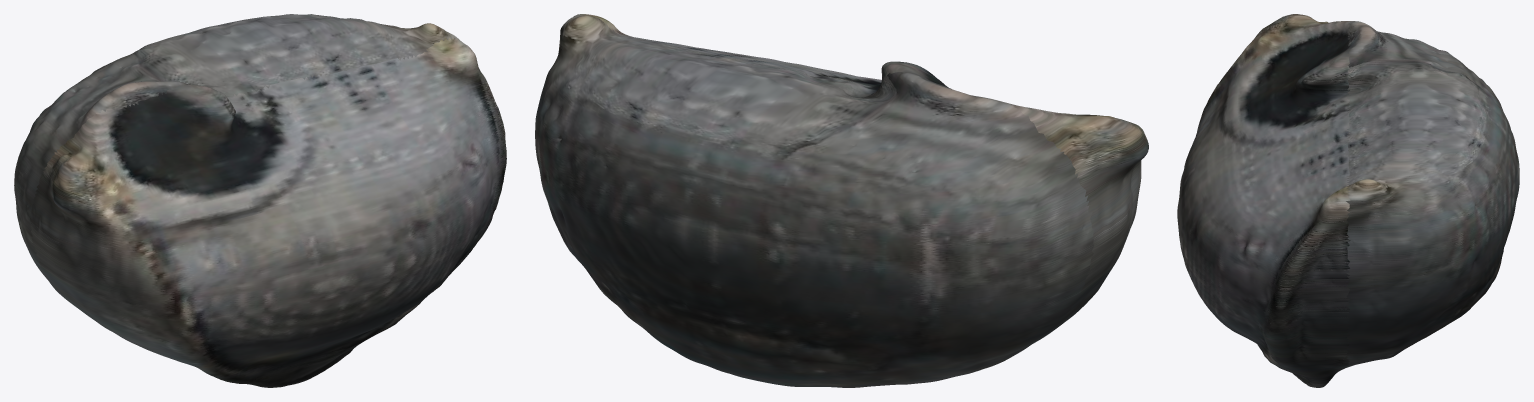
File: kfl-2165.glb
The picture shows the model from 3 angles, left to right: view 1: azimuth 30°, elevation 25°; view 2: azimuth 150°, elevation 25°; view 3: azimuth 270°, elevation 25°; orthographic projection. The views are drawn at different scales.
Visible parts, largest first — view 1: geometry_0; view 2: geometry_0; view 3: geometry_0.
Boxes of the visible parts, left/top/right/bottom form: geometry_0: left=14, top=14, right=506, bottom=387; geometry_0: left=535, top=14, right=1148, bottom=387; geometry_0: left=1177, top=14, right=1519, bottom=387.
Bounding box in the file's own units: 0.9883 × 0.6242 × 0.701.
1 material, 1 textured.
